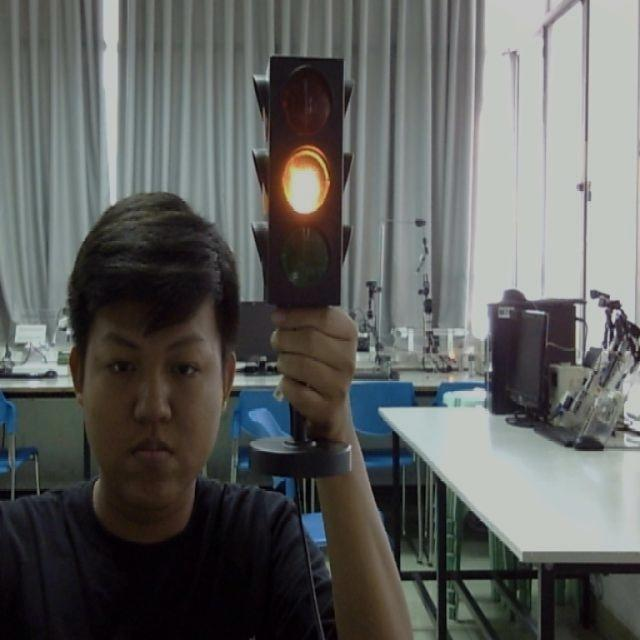Yellow: (257, 47, 362, 310)
